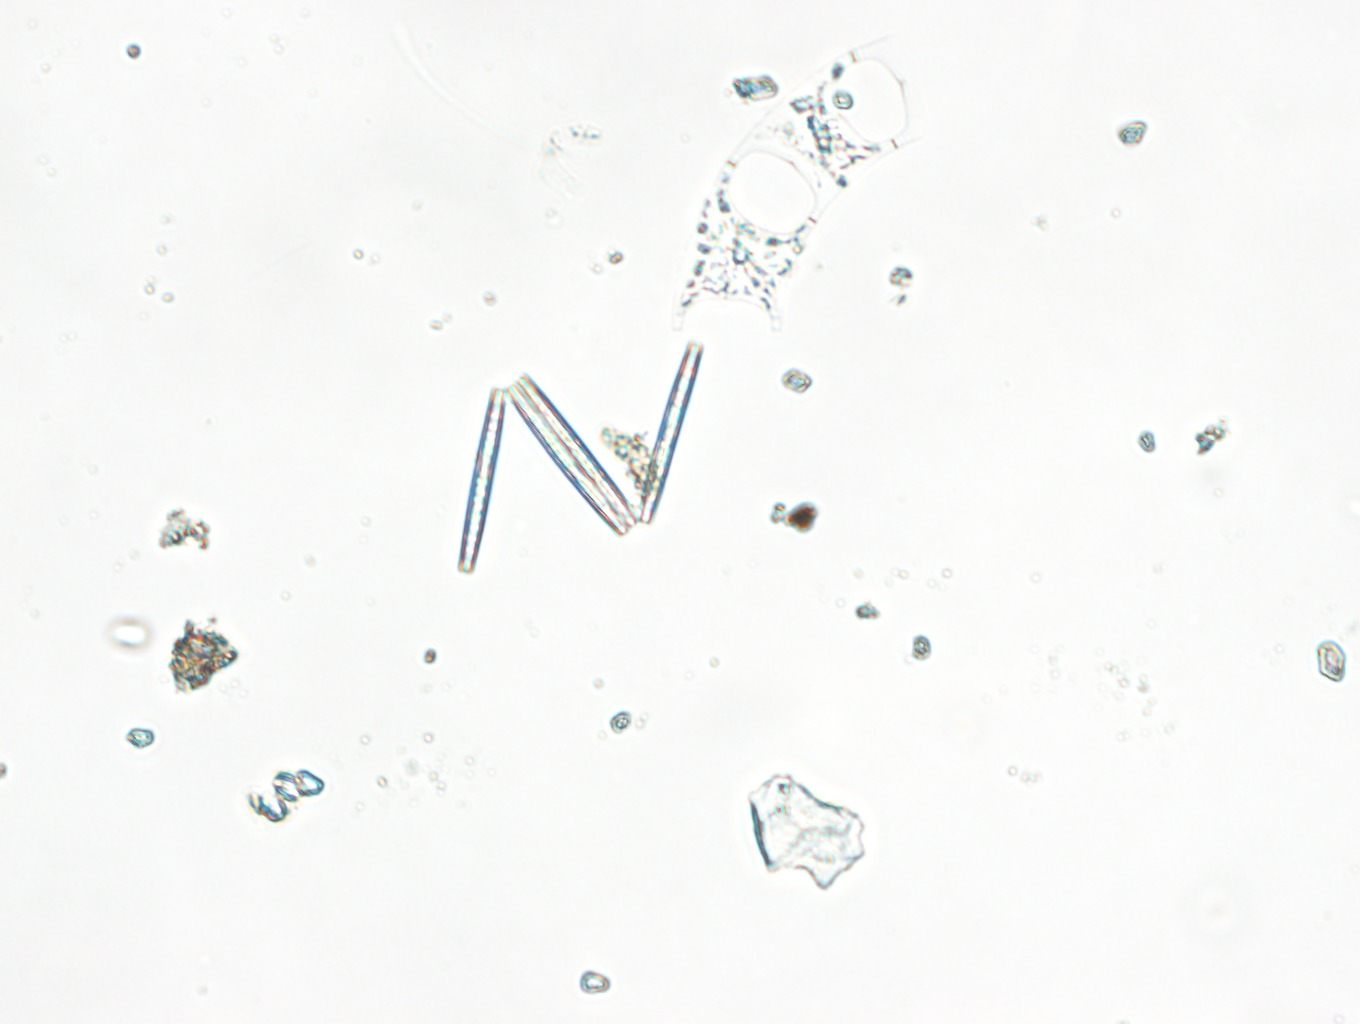eucampia: (673, 35, 926, 333)
thalassionema nitzschioides: (459, 342, 701, 575)
